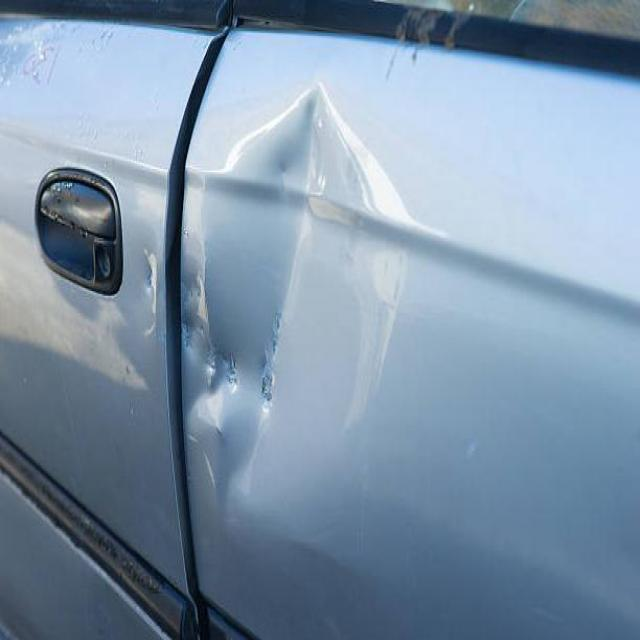dent: (153, 63, 424, 550)
